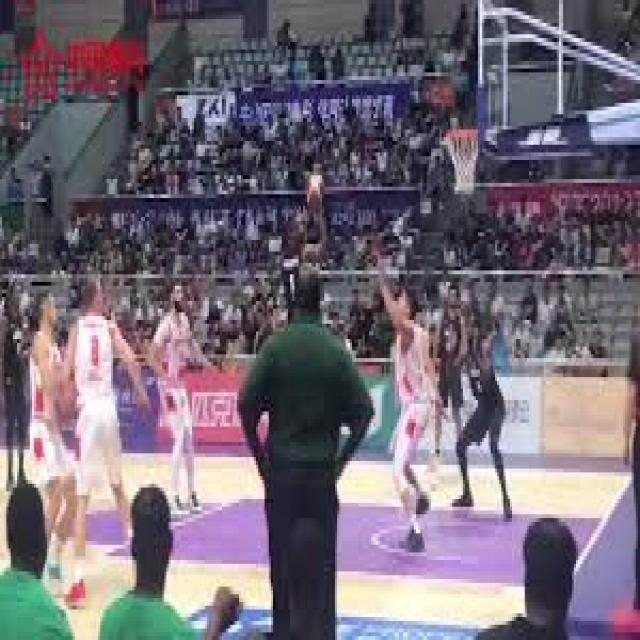rim: (307, 168, 324, 210)
